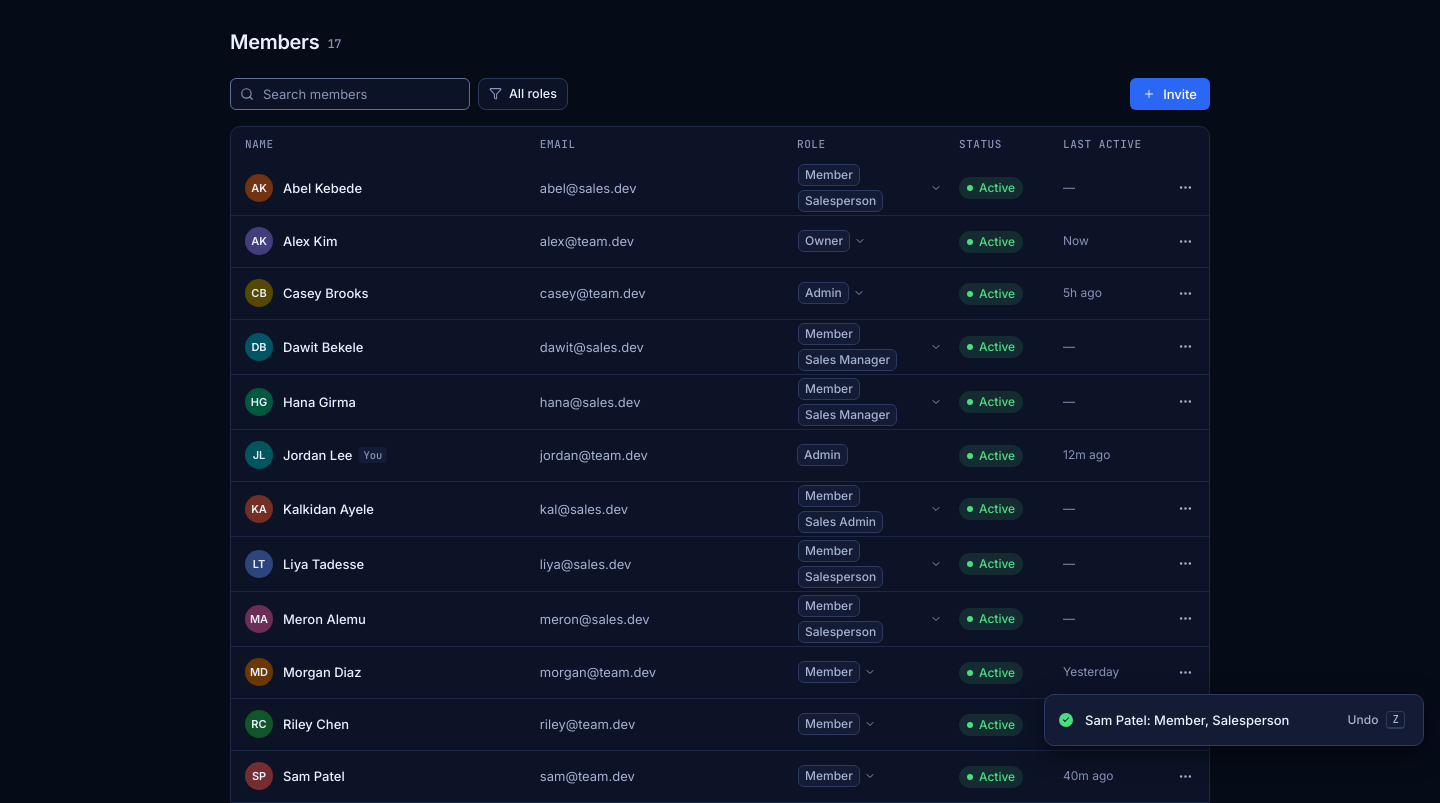
Test: MembersScreen roles › locks the Owner role and hides Remove for an owner when the viewer is an Admin
Click the button with aria-label "Roles for Alex Kim: Owner" at point(831, 241), box [791, 227, 871, 255]
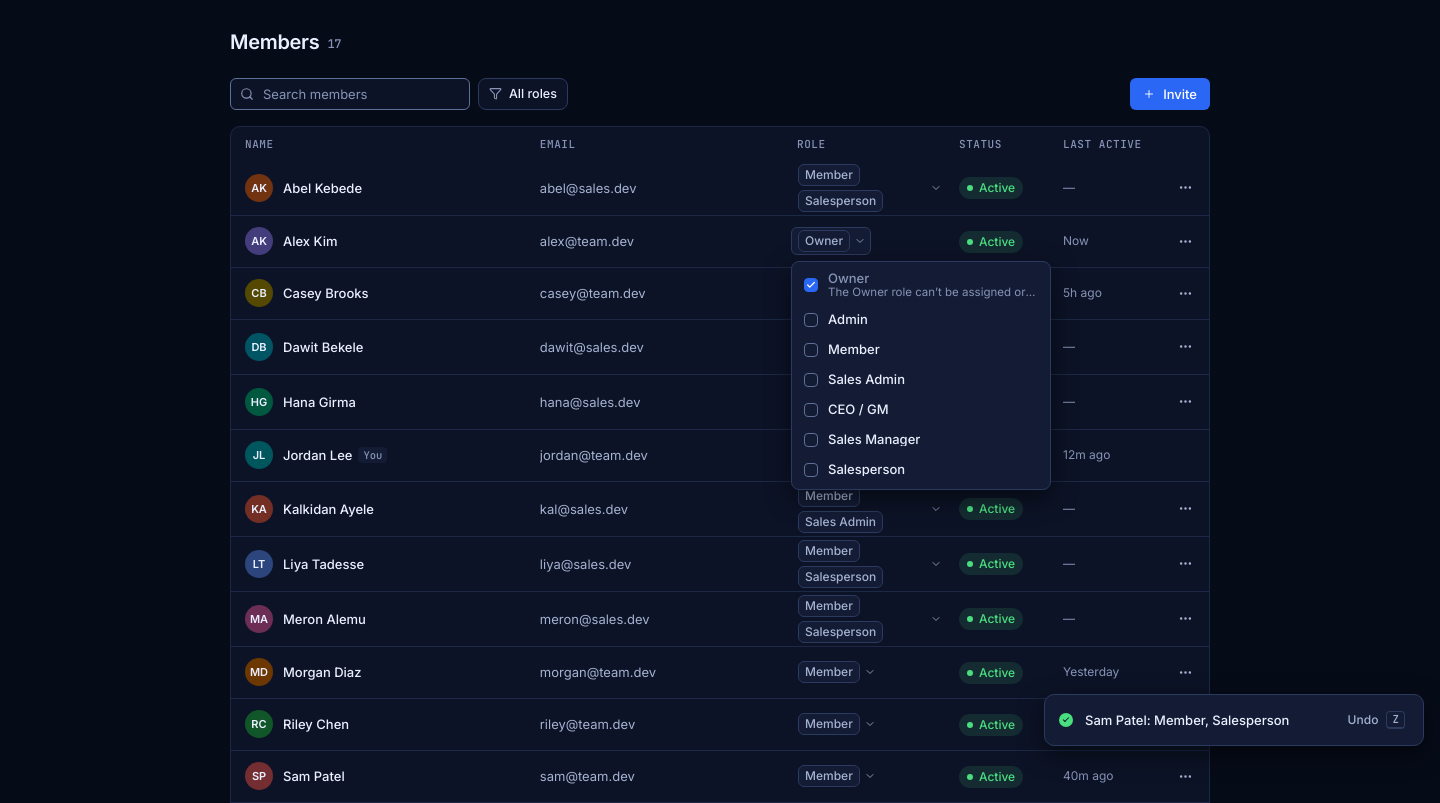
Press Escape
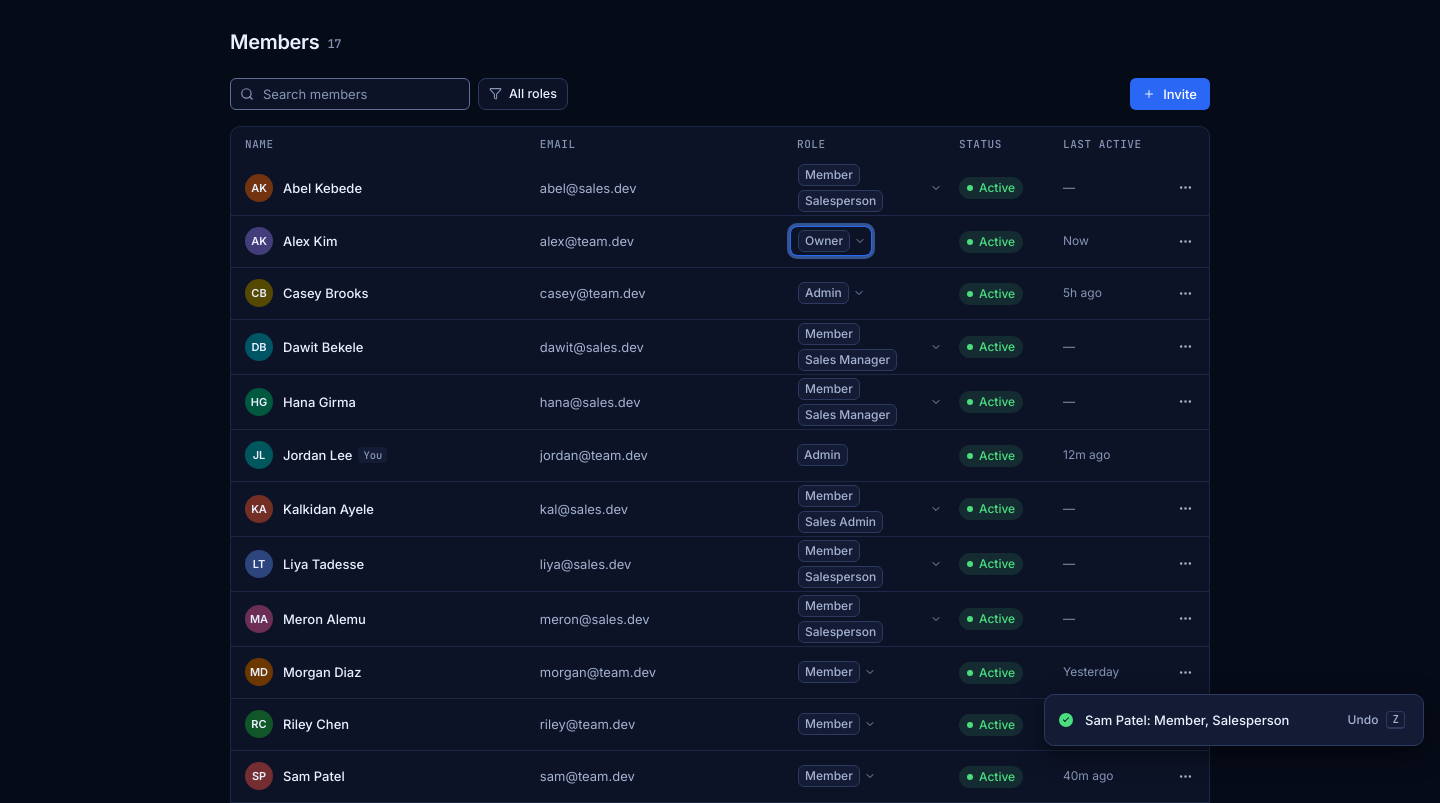
Click the button named "Actions for Alex Kim" at point(1185, 241), box [1171, 227, 1199, 255]
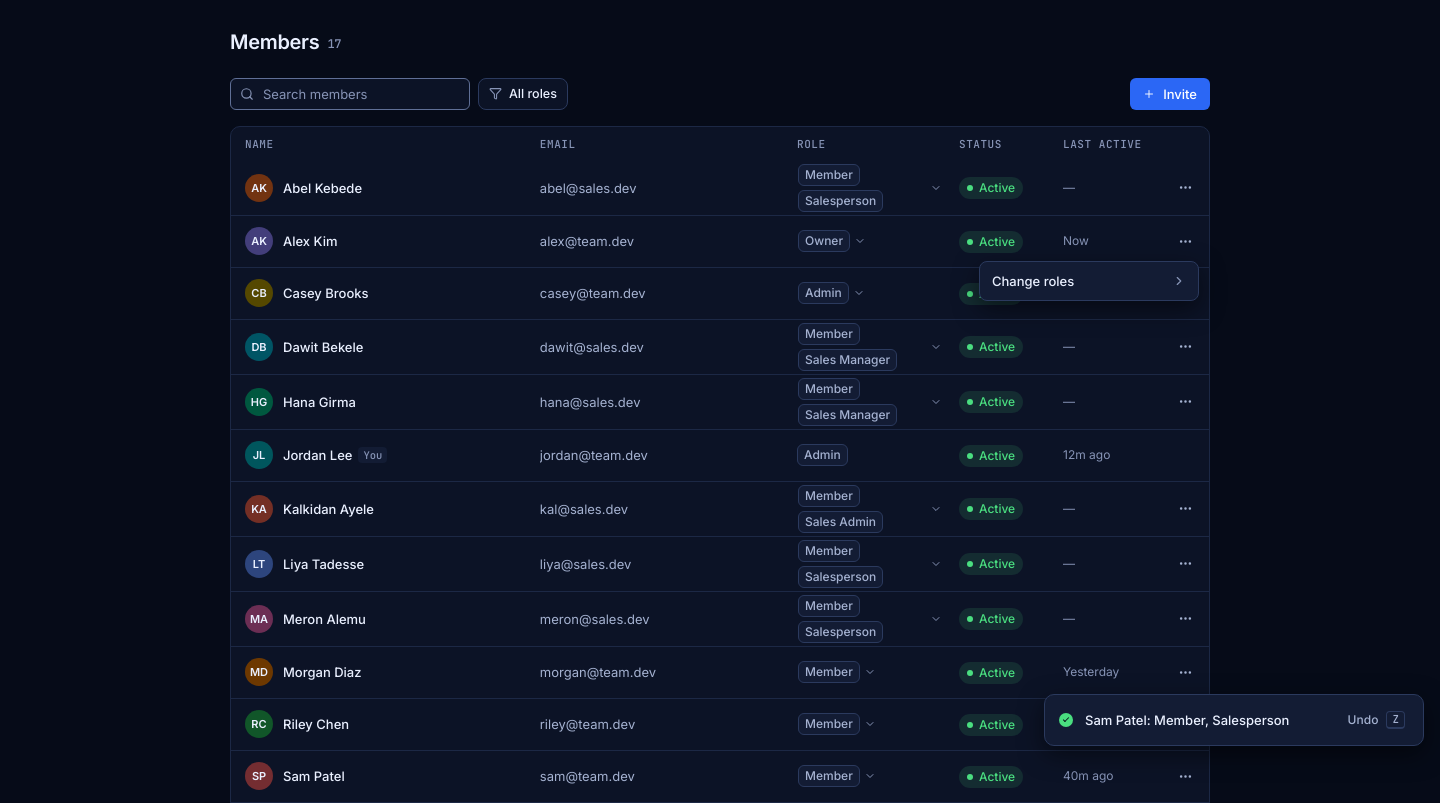
Result: the menu item "Change roles" is shown at [992, 272, 1186, 288]
